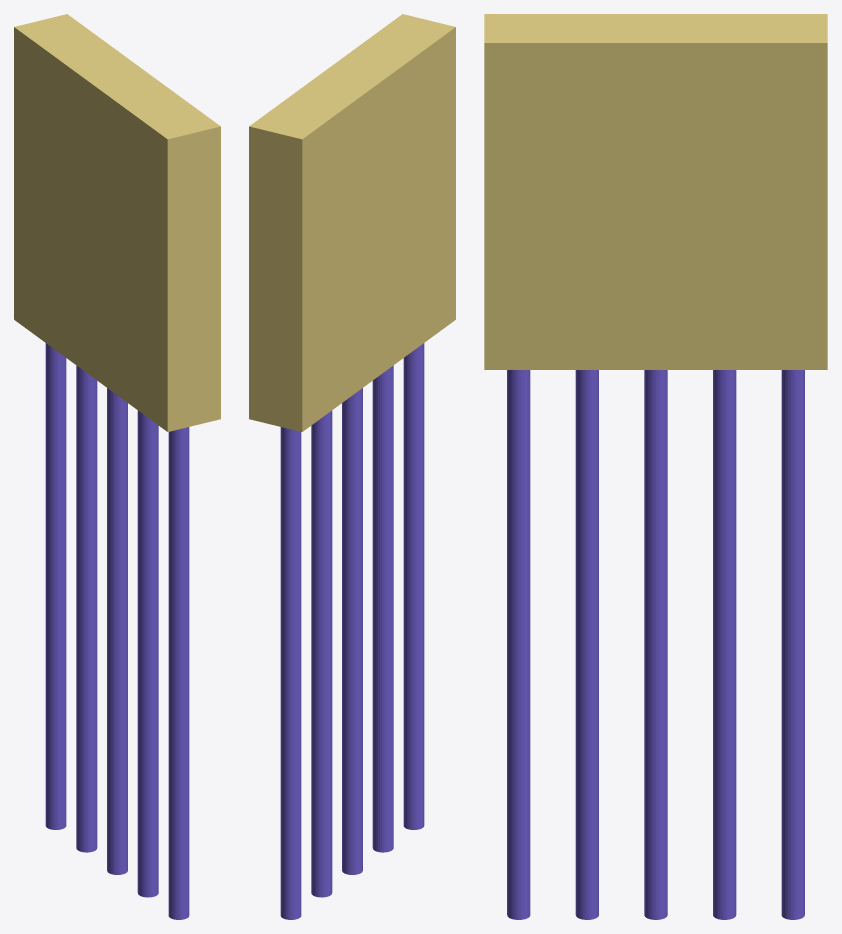
File: Wall_Cell.fbx
3 views of the same model, side by side, from view 1: azimuth 30°, elevation 25°; view 2: azimuth 150°, elevation 25°; view 3: azimuth 270°, elevation 25° (orthographic). The views are drawn at different scales.
Visible parts, largest first — view 1: Cell_Wall_Base; view 2: Cell_Wall_Base; view 3: Cell_Wall_Base.
Part boxes in pixels (box(x1,y1,x2,y2)): Cell_Wall_Base: box(14, 14, 220, 919); Cell_Wall_Base: box(249, 14, 455, 919); Cell_Wall_Base: box(484, 14, 827, 919).
Size of the model in its own units: 200 by 2852 by 1000.
